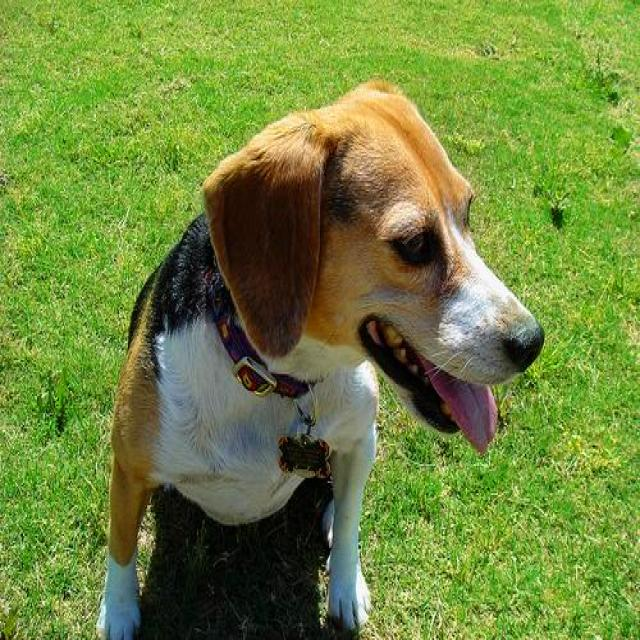beagle: (90, 67, 548, 633)
